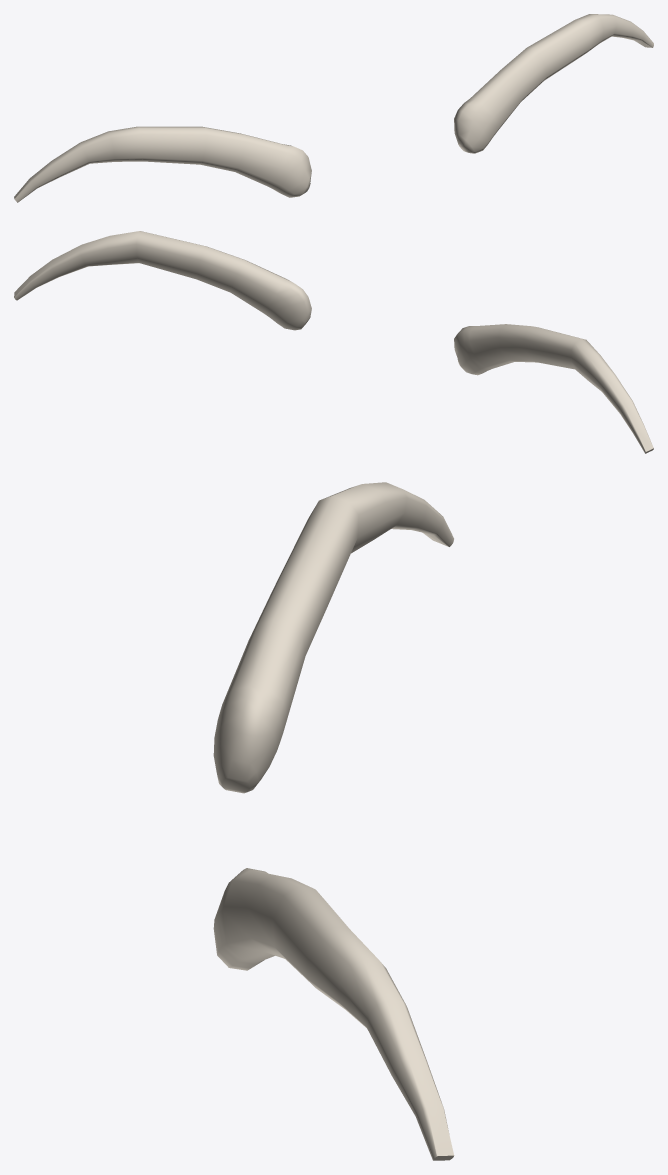
The model's file is Eyebrows_04_07.fbx.
The picture shows the model from 3 angles, top to bottom: view 1: azimuth 30°, elevation 25°; view 2: azimuth 150°, elevation 25°; view 3: azimuth 270°, elevation 25°; orthographic projection. The views are drawn at different scales.
Visible parts, largest first — view 1: Eyebrows_04_07; view 2: Eyebrows_04_07; view 3: Eyebrows_04_07.
Boxes of the visible parts, left/top/right/bottom form: Eyebrows_04_07: left=14, top=14, right=653, bottom=202; Eyebrows_04_07: left=14, top=231, right=653, bottom=453; Eyebrows_04_07: left=213, top=482, right=454, bottom=1160.
Size of the model in its own units: 19.76 by 2.45 by 3.22.
